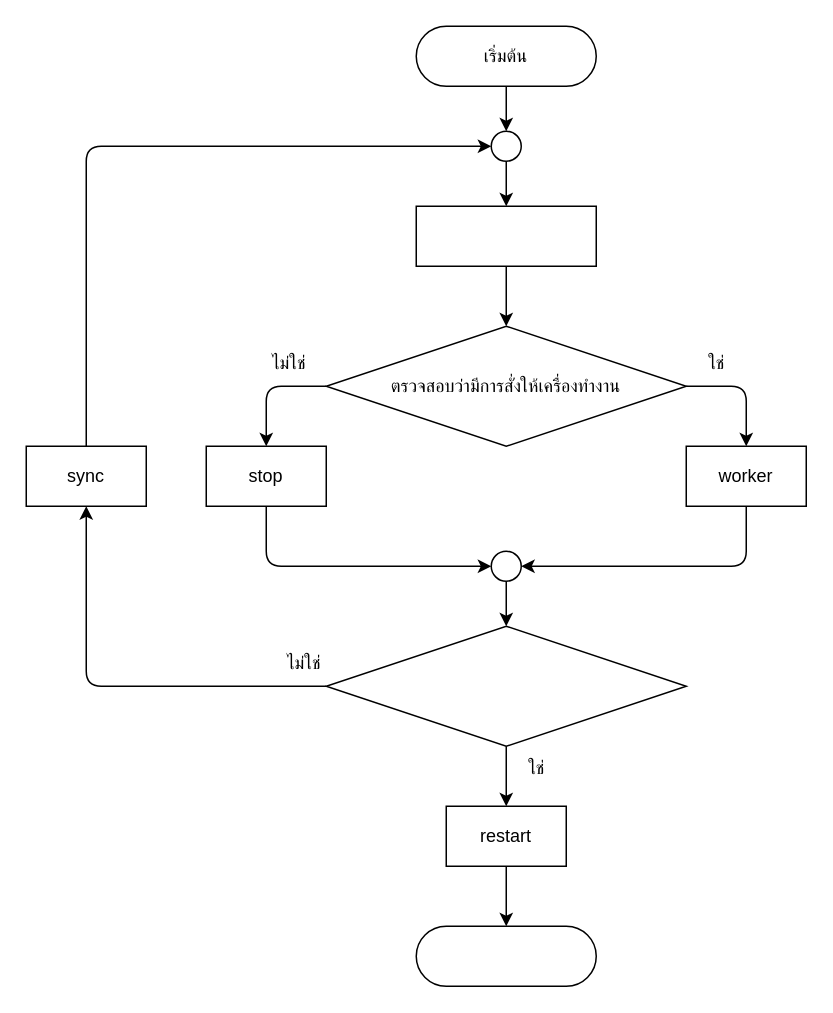
Some shapes in this 833 by 1013 pixel diagram are drawn without their labels. Each missing label, with the box of its shape:
จบ: (415, 925, 596, 986)
ดึง Blynk event: (415, 205, 596, 266)
ตรวจสอบว่ามีการสั่ง restart: (325, 625, 686, 746)
